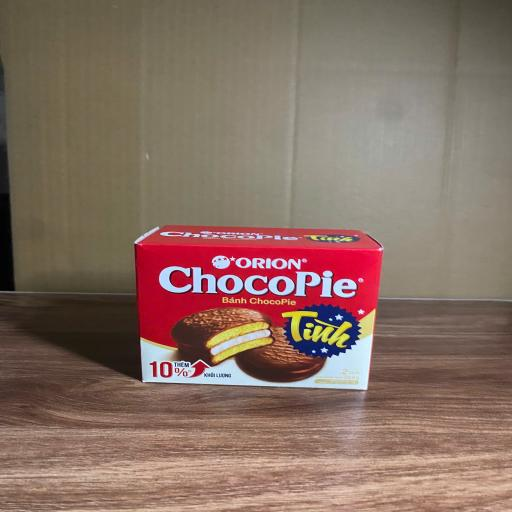chocopie: (137, 225, 385, 392)
